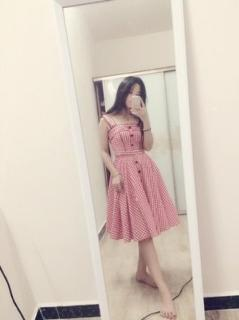sling: (103, 114, 180, 243)
